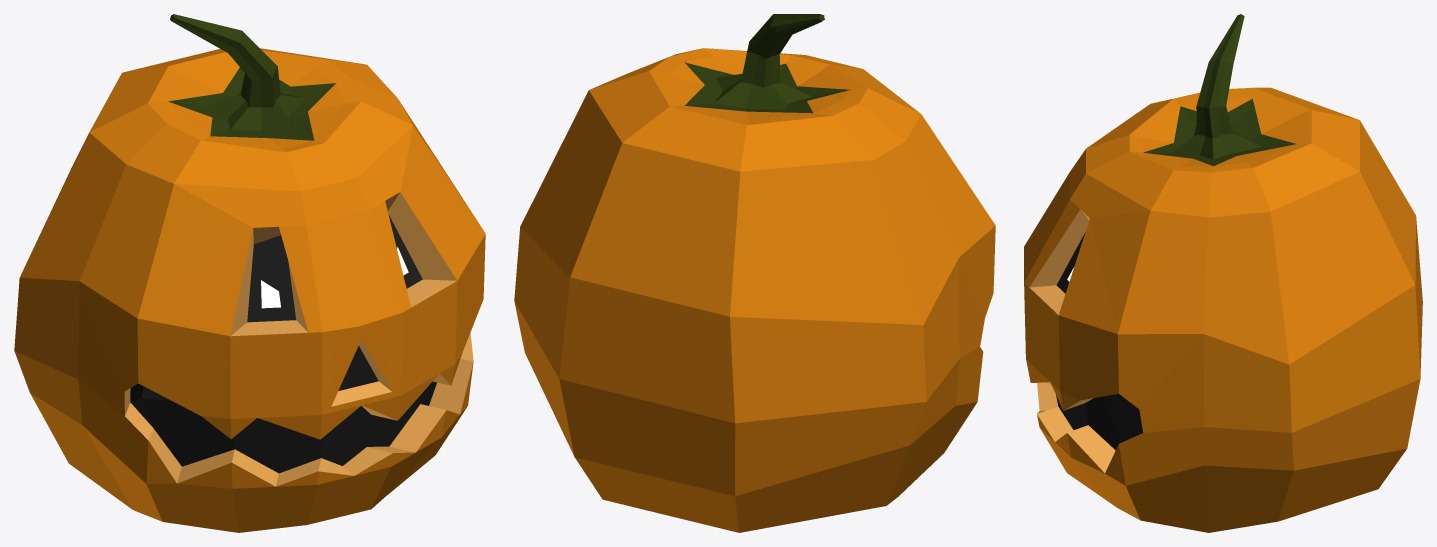
File: PumpkinV1.glb
The picture shows the model from 3 angles, left to right: view 1: azimuth 30°, elevation 25°; view 2: azimuth 150°, elevation 25°; view 3: azimuth 270°, elevation 25°; orthographic projection. The views are drawn at different scales.
Parts seen in each view (by area): view 1: PumpkinV1; view 2: PumpkinV1; view 3: PumpkinV1.
Part boxes in pixels (x1,y1,x2,y2): PumpkinV1: [14, 14, 485, 532]; PumpkinV1: [514, 14, 995, 532]; PumpkinV1: [1024, 14, 1422, 532].
Size of the model in its own units: 0.1846 by 0.2058 by 0.1731.
2 materials, 2 textured.
